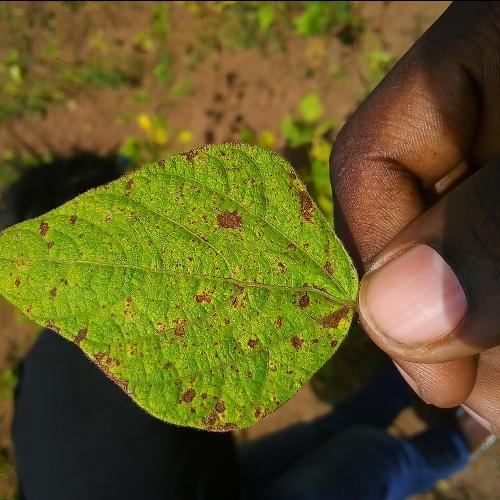hawar: (104, 109, 264, 408)
